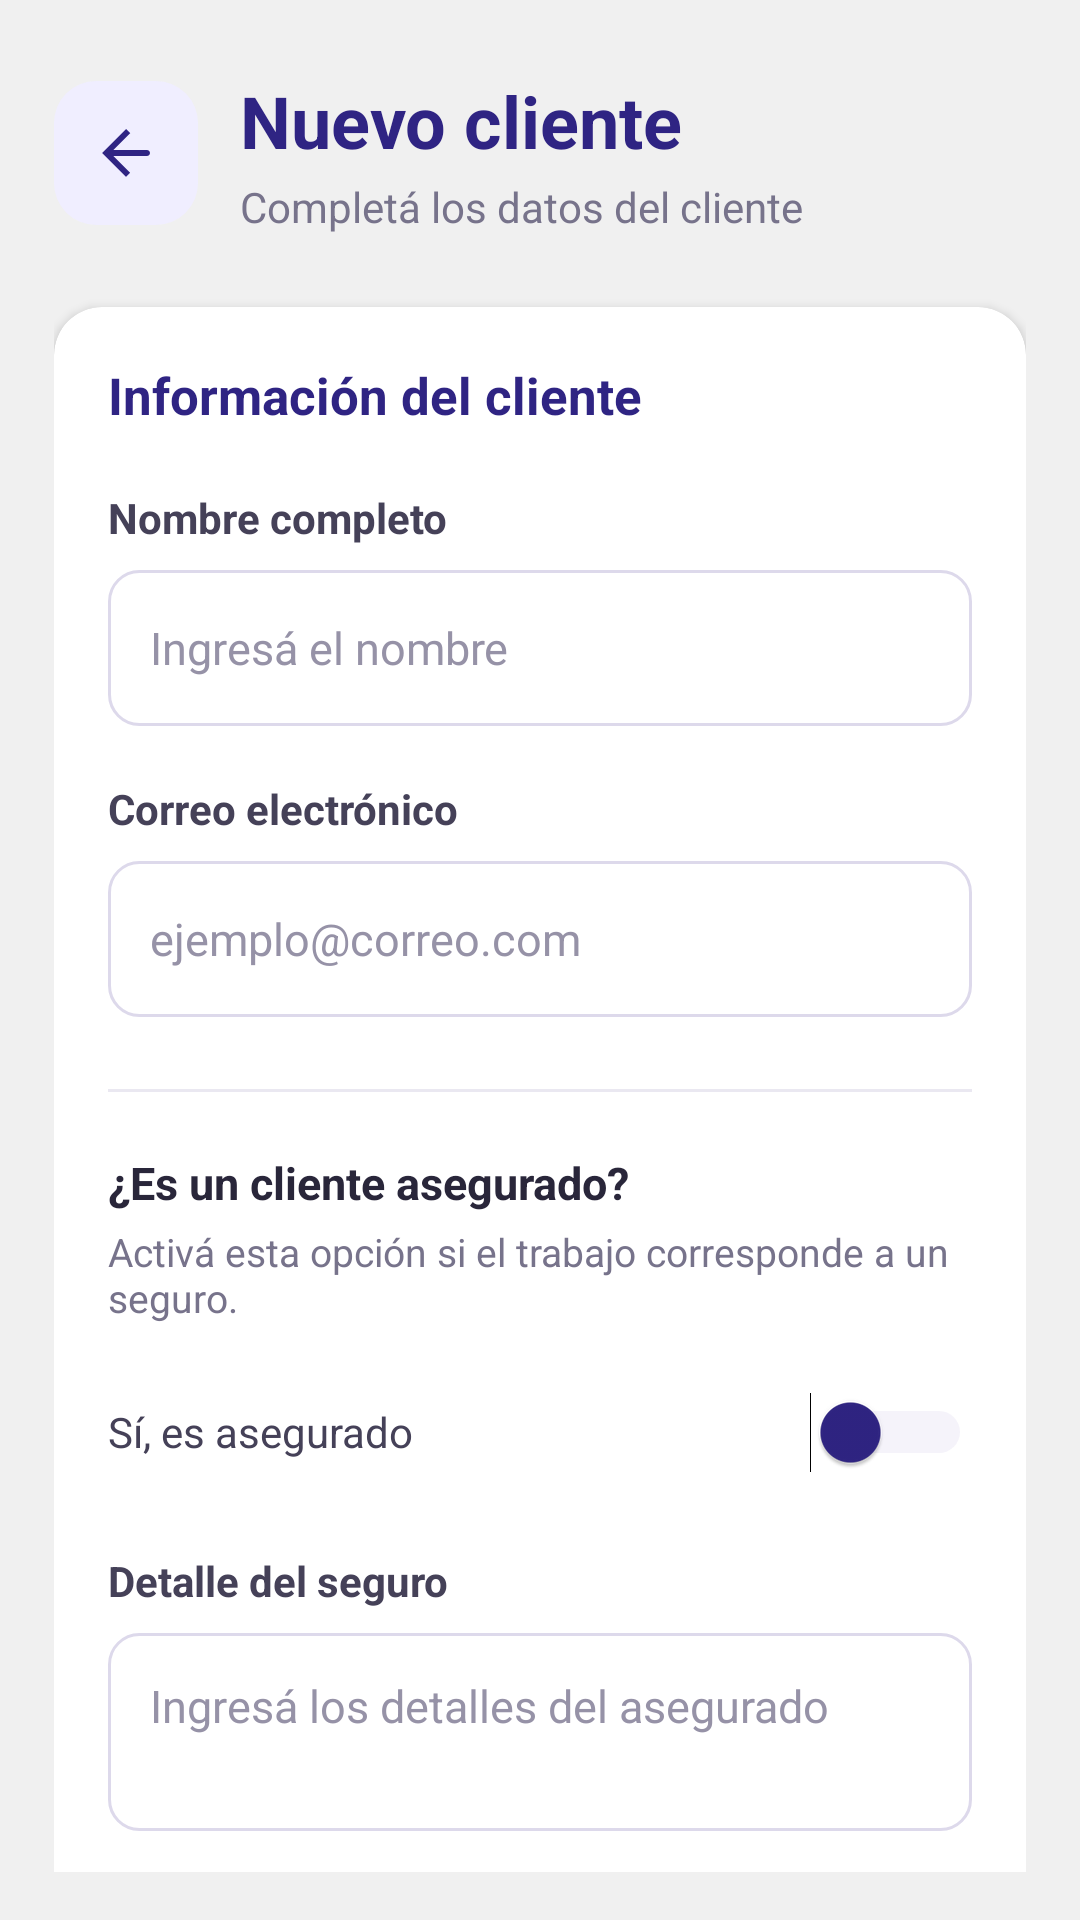

Point at icon controls on the screen. Image size 1080*1920, points as (x,y).
Volver: (126,153)
